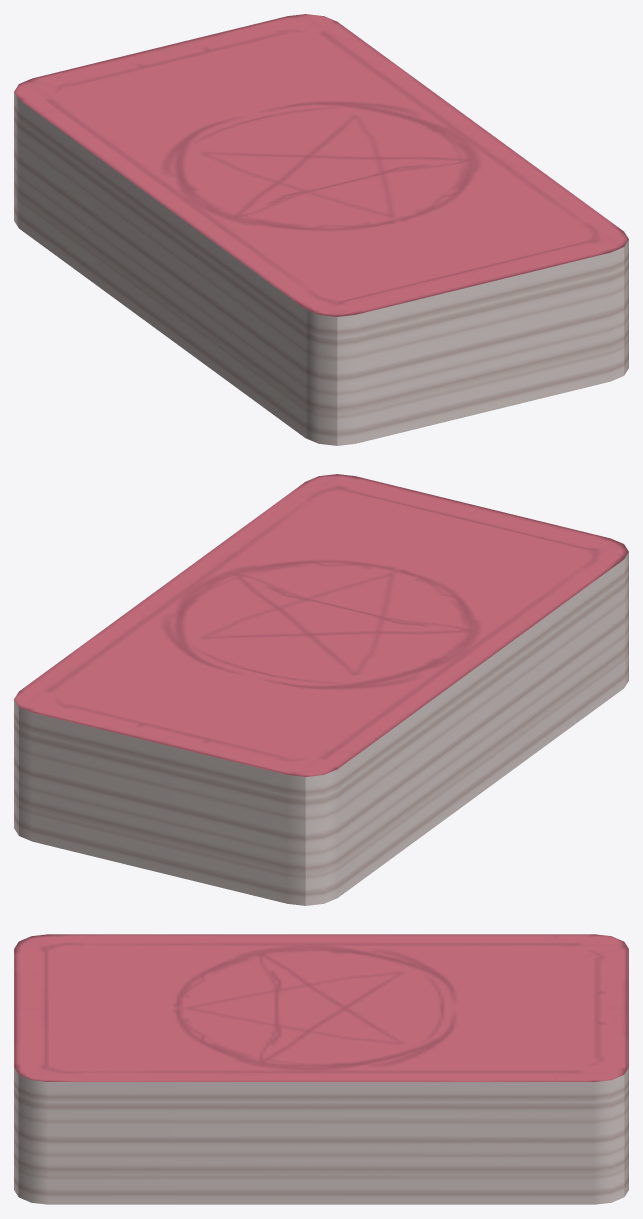
Rendered from sm_tarotCardStack.fbx.
3 renders of one model, top to bottom at view 1: azimuth 30°, elevation 25°; view 2: azimuth 150°, elevation 25°; view 3: azimuth 270°, elevation 25°, orthographic. The views are drawn at different scales.
Visible parts, largest first — view 1: tarotCardStack; view 2: tarotCardStack; view 3: tarotCardStack.
Part boxes in pixels (box(x1,y1,x2,y2)): tarotCardStack: box(14, 14, 628, 445); tarotCardStack: box(14, 474, 628, 905); tarotCardStack: box(14, 934, 628, 1204).
Size of the model in its own units: 11.38 by 4.4 by 20.
Materials: 1 (1 with a texture image).
